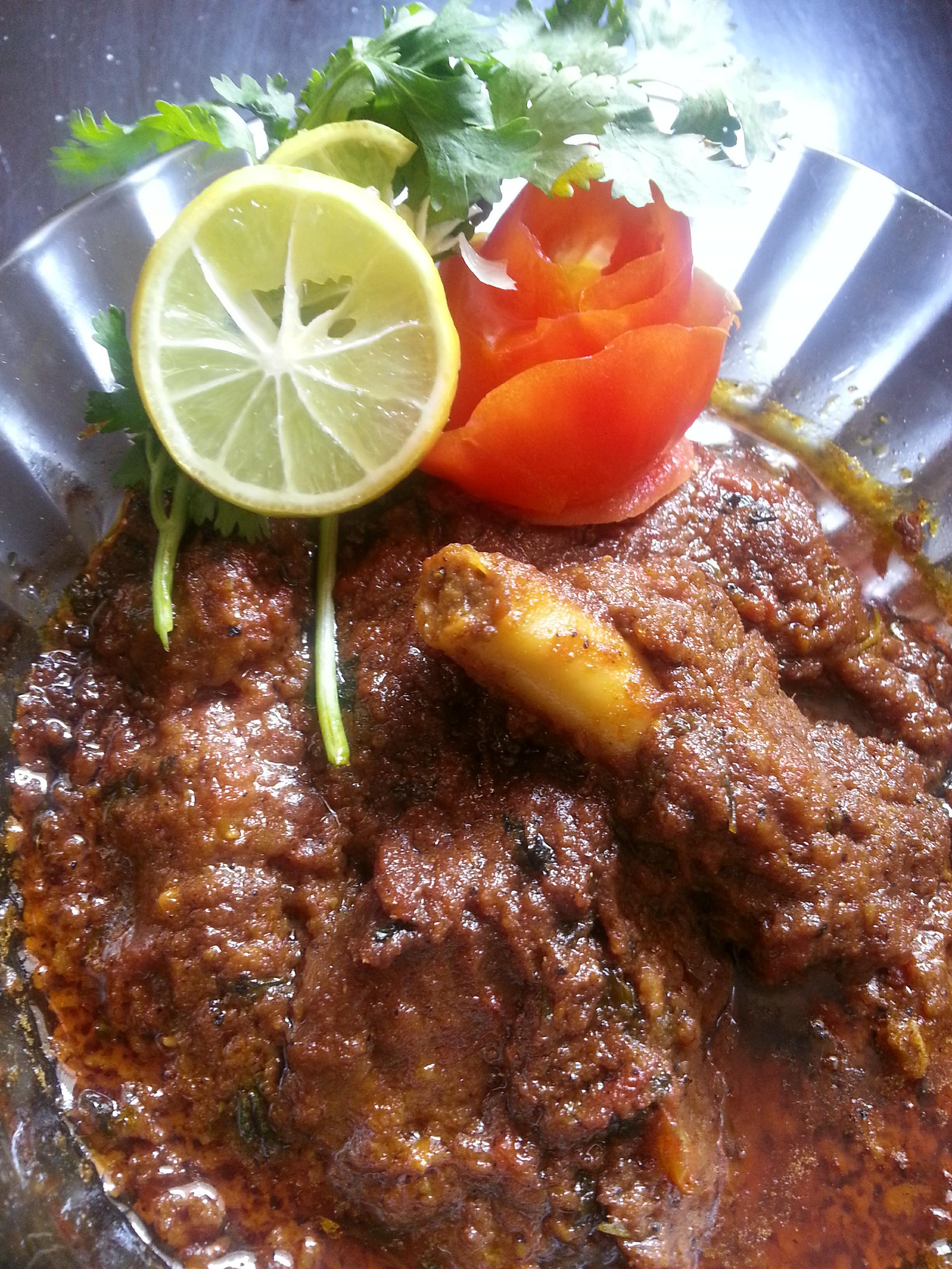MuttonCurry: (0, 415, 952, 1269)
